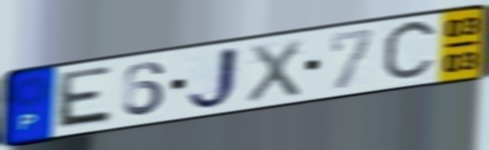6: (122, 61, 167, 119)
7: (328, 26, 375, 93)
C: (379, 16, 441, 87)
E: (53, 63, 115, 131)
J: (184, 44, 242, 112)
X: (244, 37, 303, 105)
